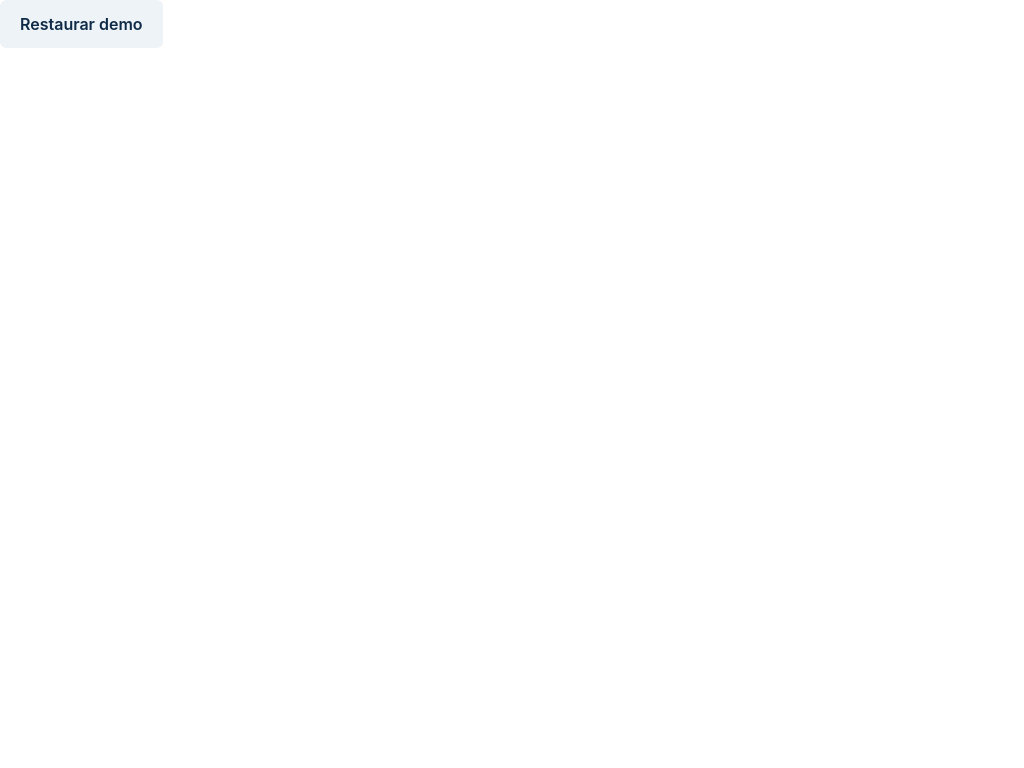
Test case: si falla, muestra el motivo y deja reintentar
Click the button "Restaurar demo".
click(81, 24)  # box top-left (0, 0), bottom-right (163, 48)
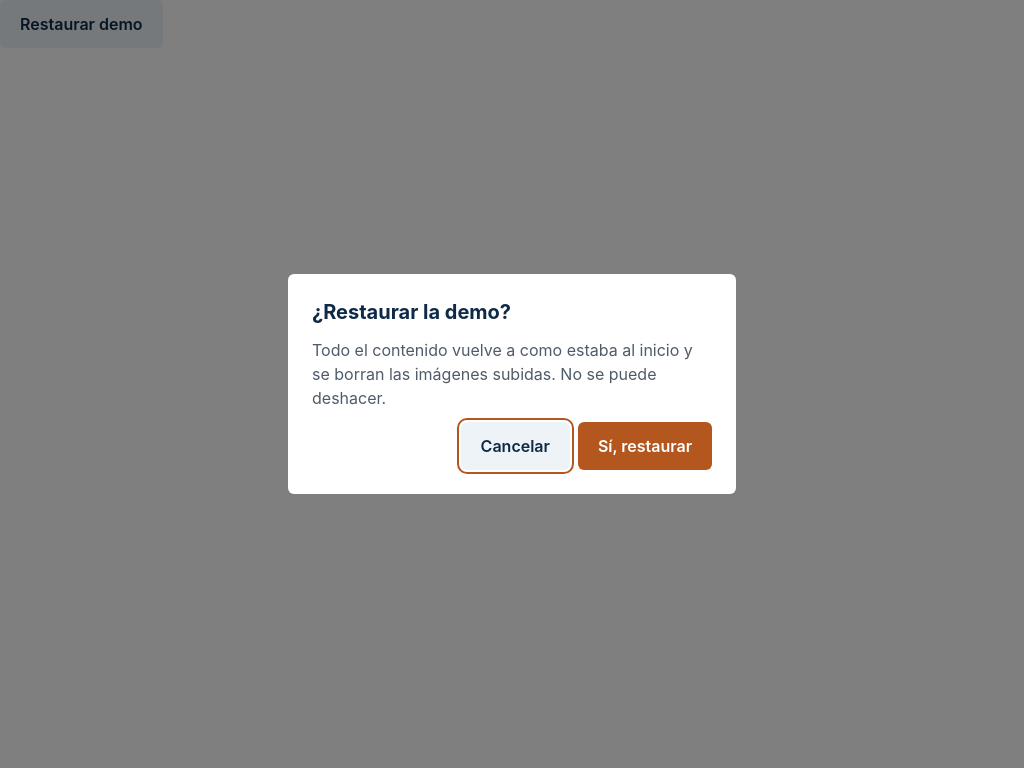
Click the button "Sí, restaurar".
click(645, 446)  # box top-left (578, 422), bottom-right (712, 470)
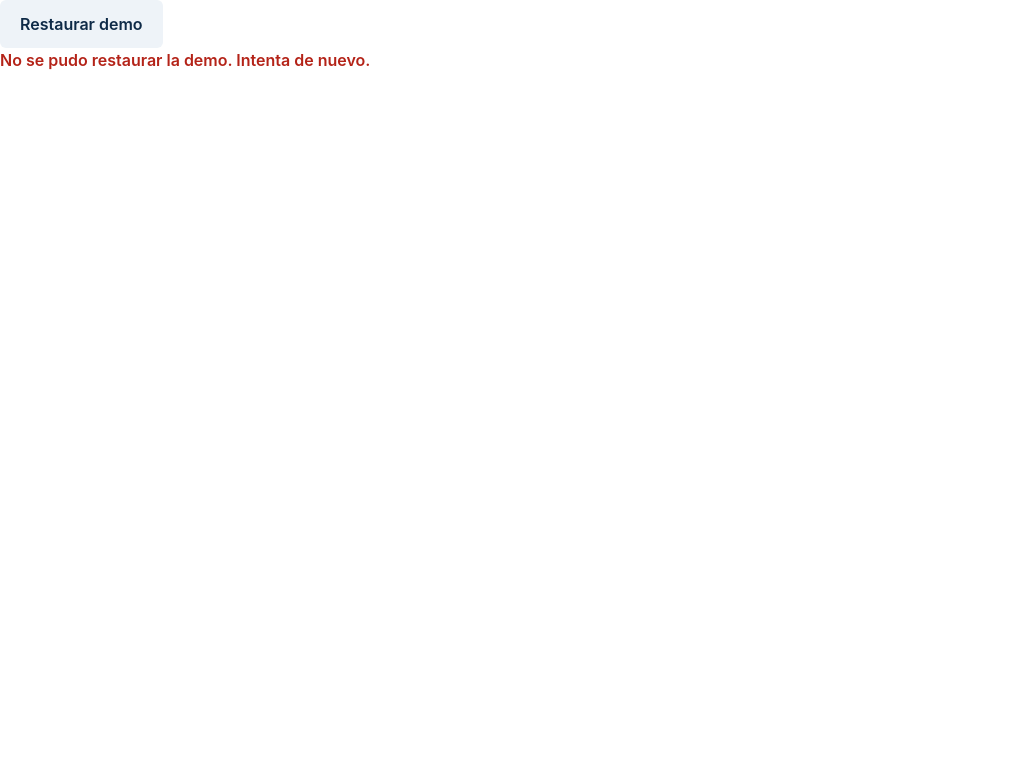
Check: the button "Restaurar demo" is shown, box top-left (0, 0), bottom-right (163, 48)
Check: the message reads "No se pudo restaurar la demo. Intenta de nuevo.", box top-left (0, 50), bottom-right (370, 70)
